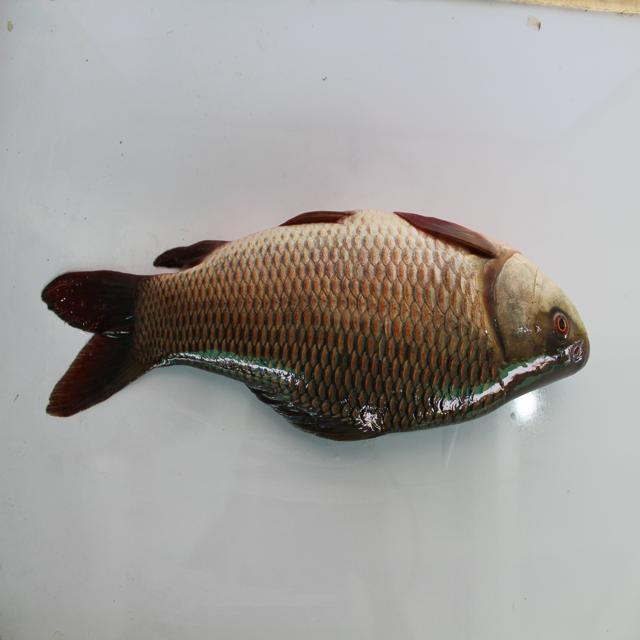Rohu: (39, 203, 598, 443)
